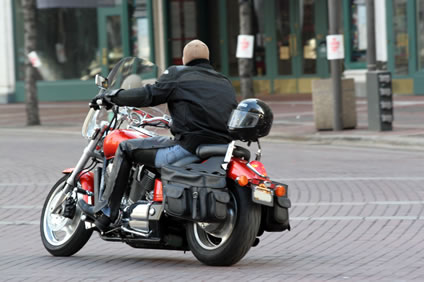helmet: (232, 102, 277, 138)
